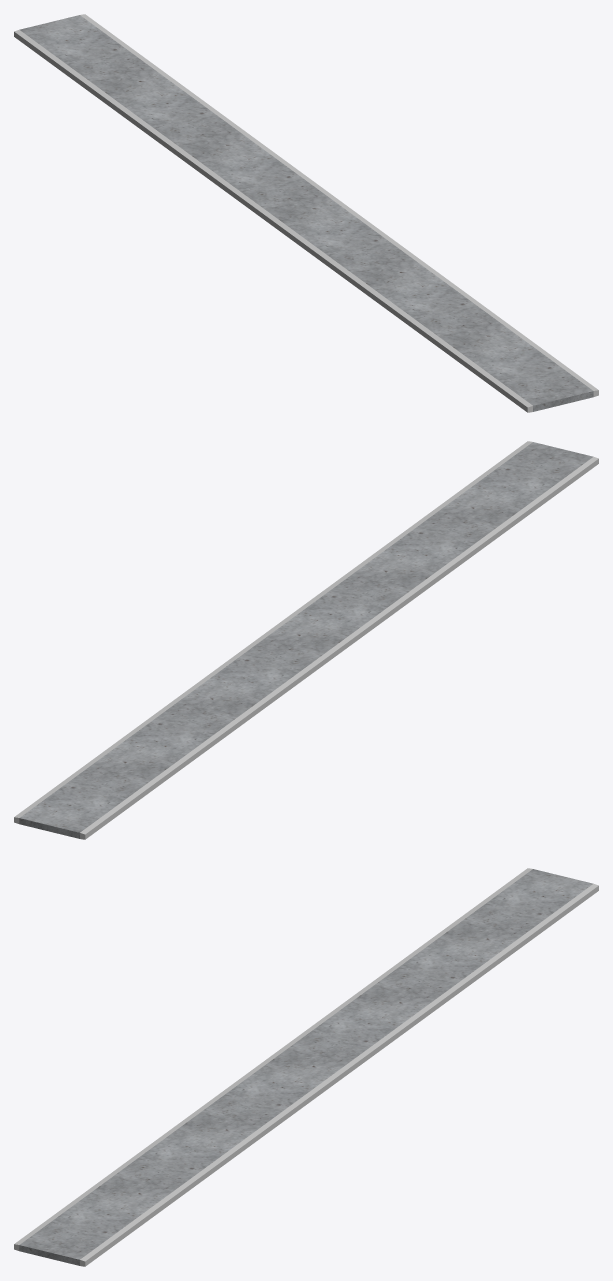
Rendered from Platform-Base-Long.fbx.
The picture shows the model from 3 angles, top to bottom: view 1: azimuth 30°, elevation 25°; view 2: azimuth 150°, elevation 25°; view 3: azimuth 330°, elevation 25°; orthographic projection.
Parts seen in each view (by area): view 1: Platform-Base-Long; view 2: Platform-Base-Long; view 3: Platform-Base-Long.
Part boxes in pixels (<box>): Platform-Base-Long: <box>14,14,598,412</box>; Platform-Base-Long: <box>14,441,598,839</box>; Platform-Base-Long: <box>14,868,598,1266</box>.
Bounding box in the file's own units: 24 × 300 × 2.
